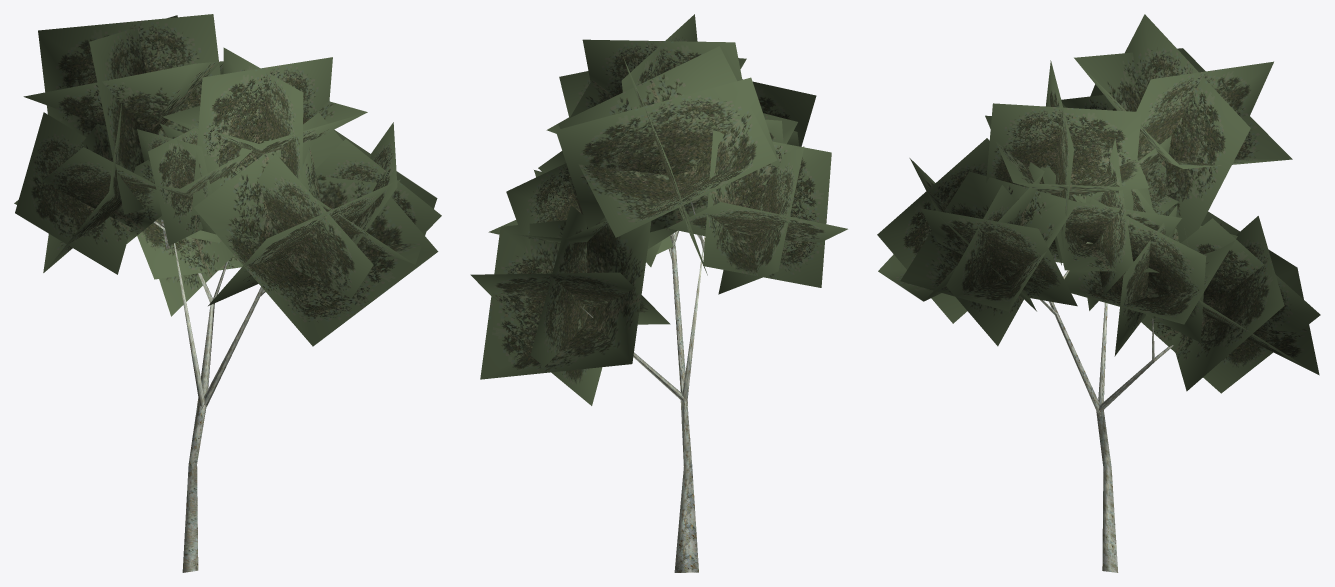
File: ever_eucalyptus_tall_l2.fbx
3 views of the same model, side by side, from view 1: azimuth 30°, elevation 25°; view 2: azimuth 150°, elevation 25°; view 3: azimuth 270°, elevation 25° (orthographic). The views are drawn at different scales.
Parts seen in each view (by area): view 1: mesh_node; view 2: mesh_node; view 3: mesh_node.
Part boxes in pixels (x1,y1,x2,y2): mesh_node: [14, 14, 441, 572]; mesh_node: [470, 14, 847, 572]; mesh_node: [877, 14, 1320, 572].
Bounding box in the file's own units: 16.91 × 23.68 × 18.47.
